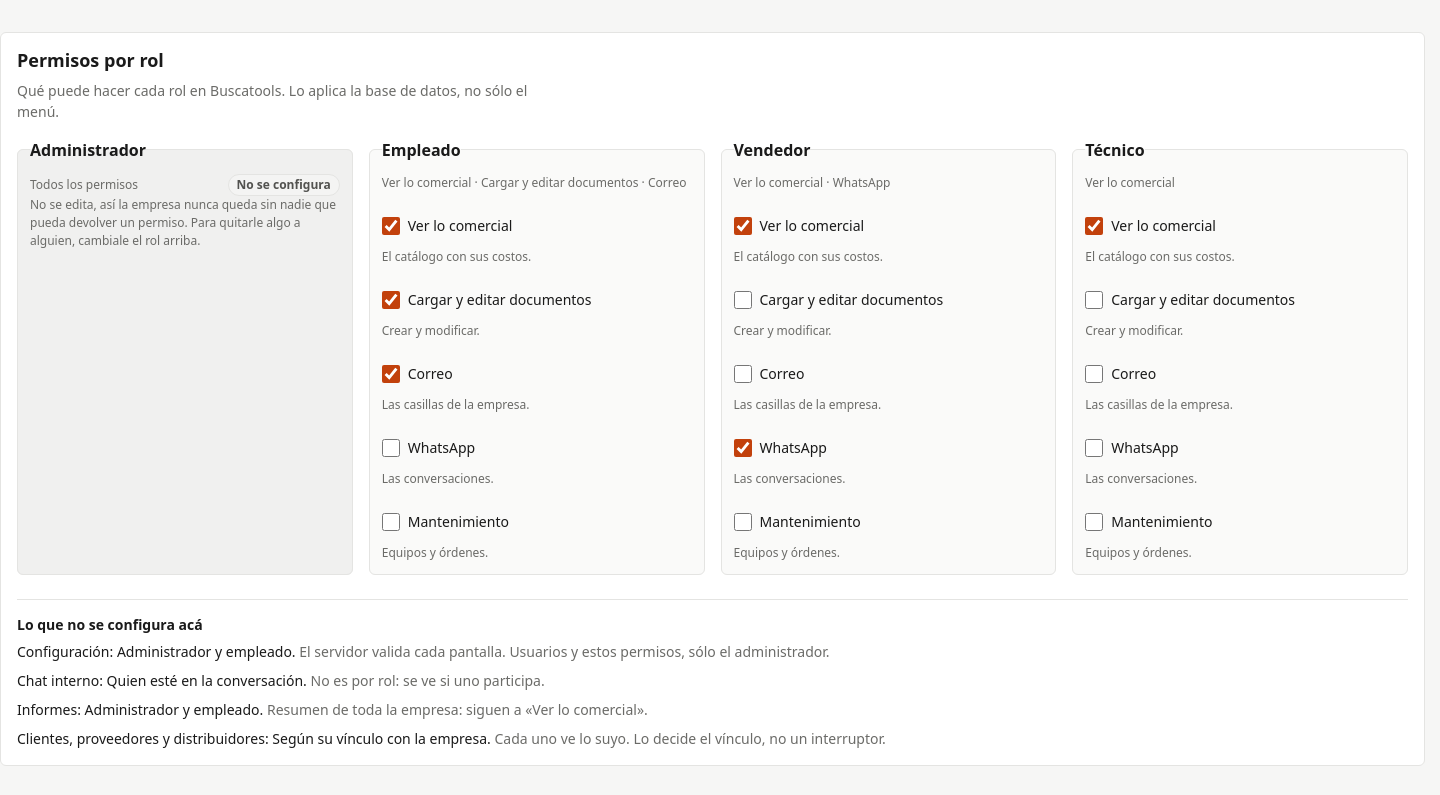
Test case: editar y guardar › si la base rechaza, lo dice y deja las casillas como estaban para reintentar
The width and height of the screenshot is (1440, 795).
What coordinates should you click on to do the following:
click the checkbox labelled "Correo" below "Ver lo comercial · WhatsApp"
I would click on:
 (742, 374)
Its box is [734,364,752,382].
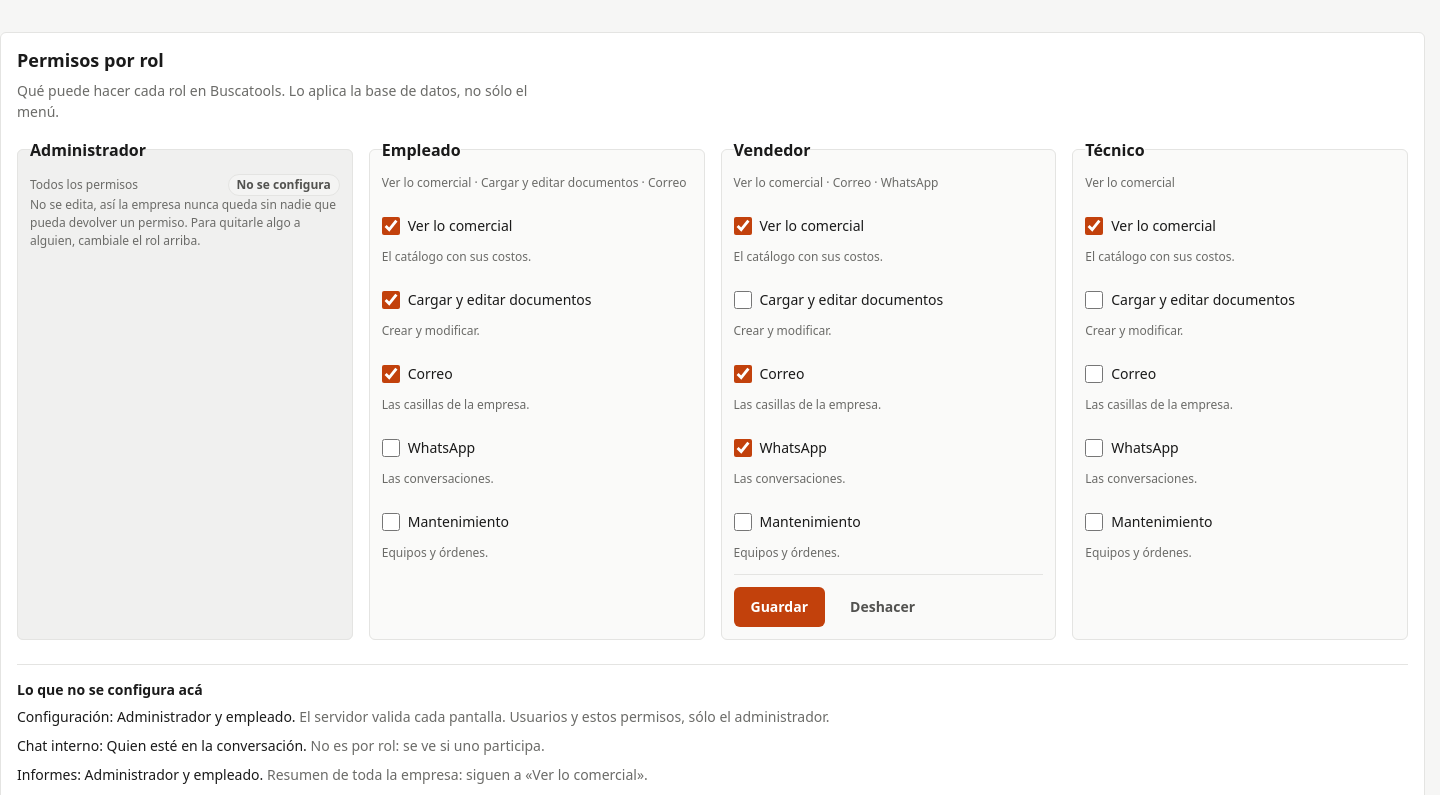
What coordinates should you click on to do the following:
click the button "Guardar"
I would click on:
 (779, 606)
Its box is [734,586,825,626].
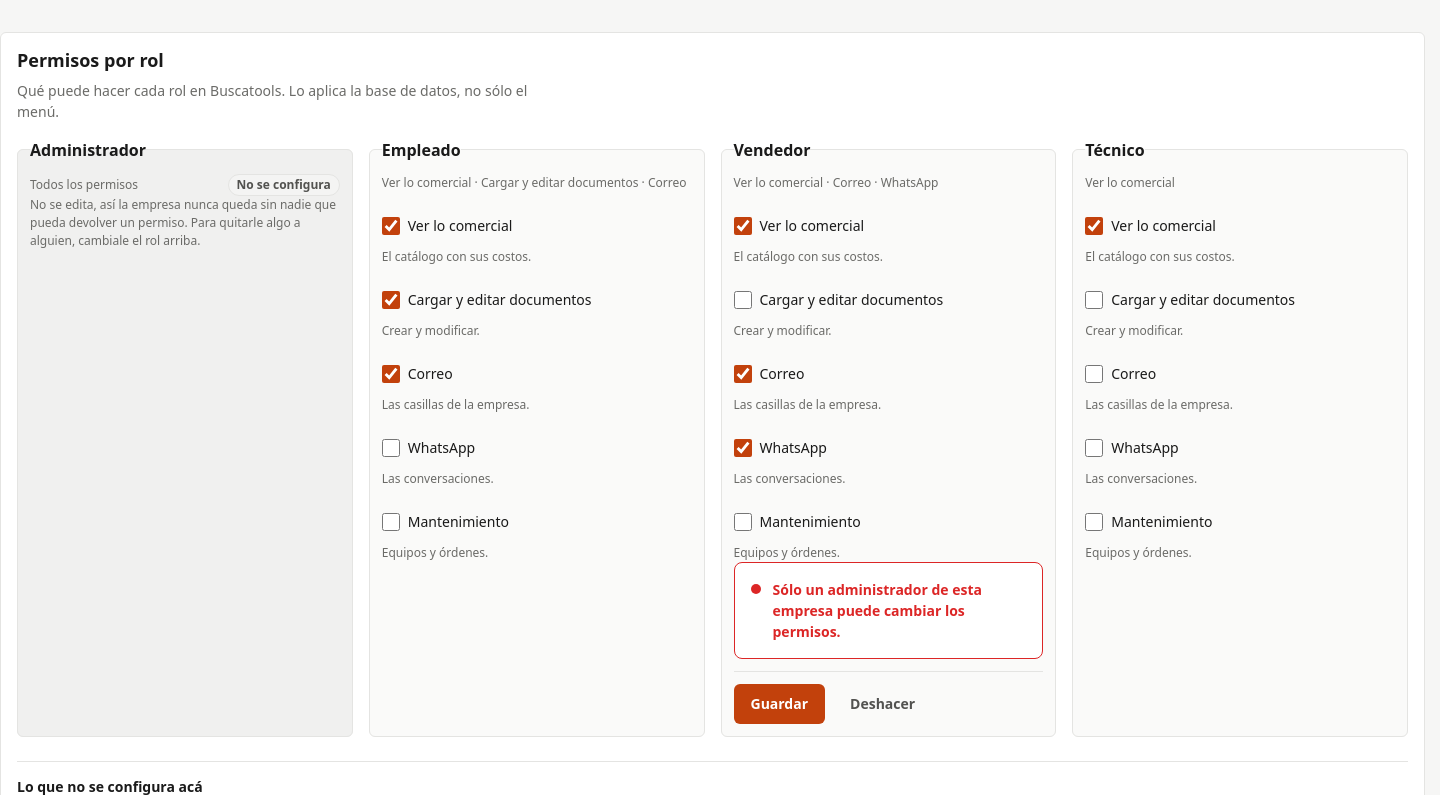
Now the checkbox labelled "Correo" below "Ver lo comercial · Correo · WhatsApp" is checked, box [734,364,752,382]
Now the button "Guardar" is shown, box [734,684,825,724]
Now the text "Sólo un administrador" is shown, box [772,580,982,640]
